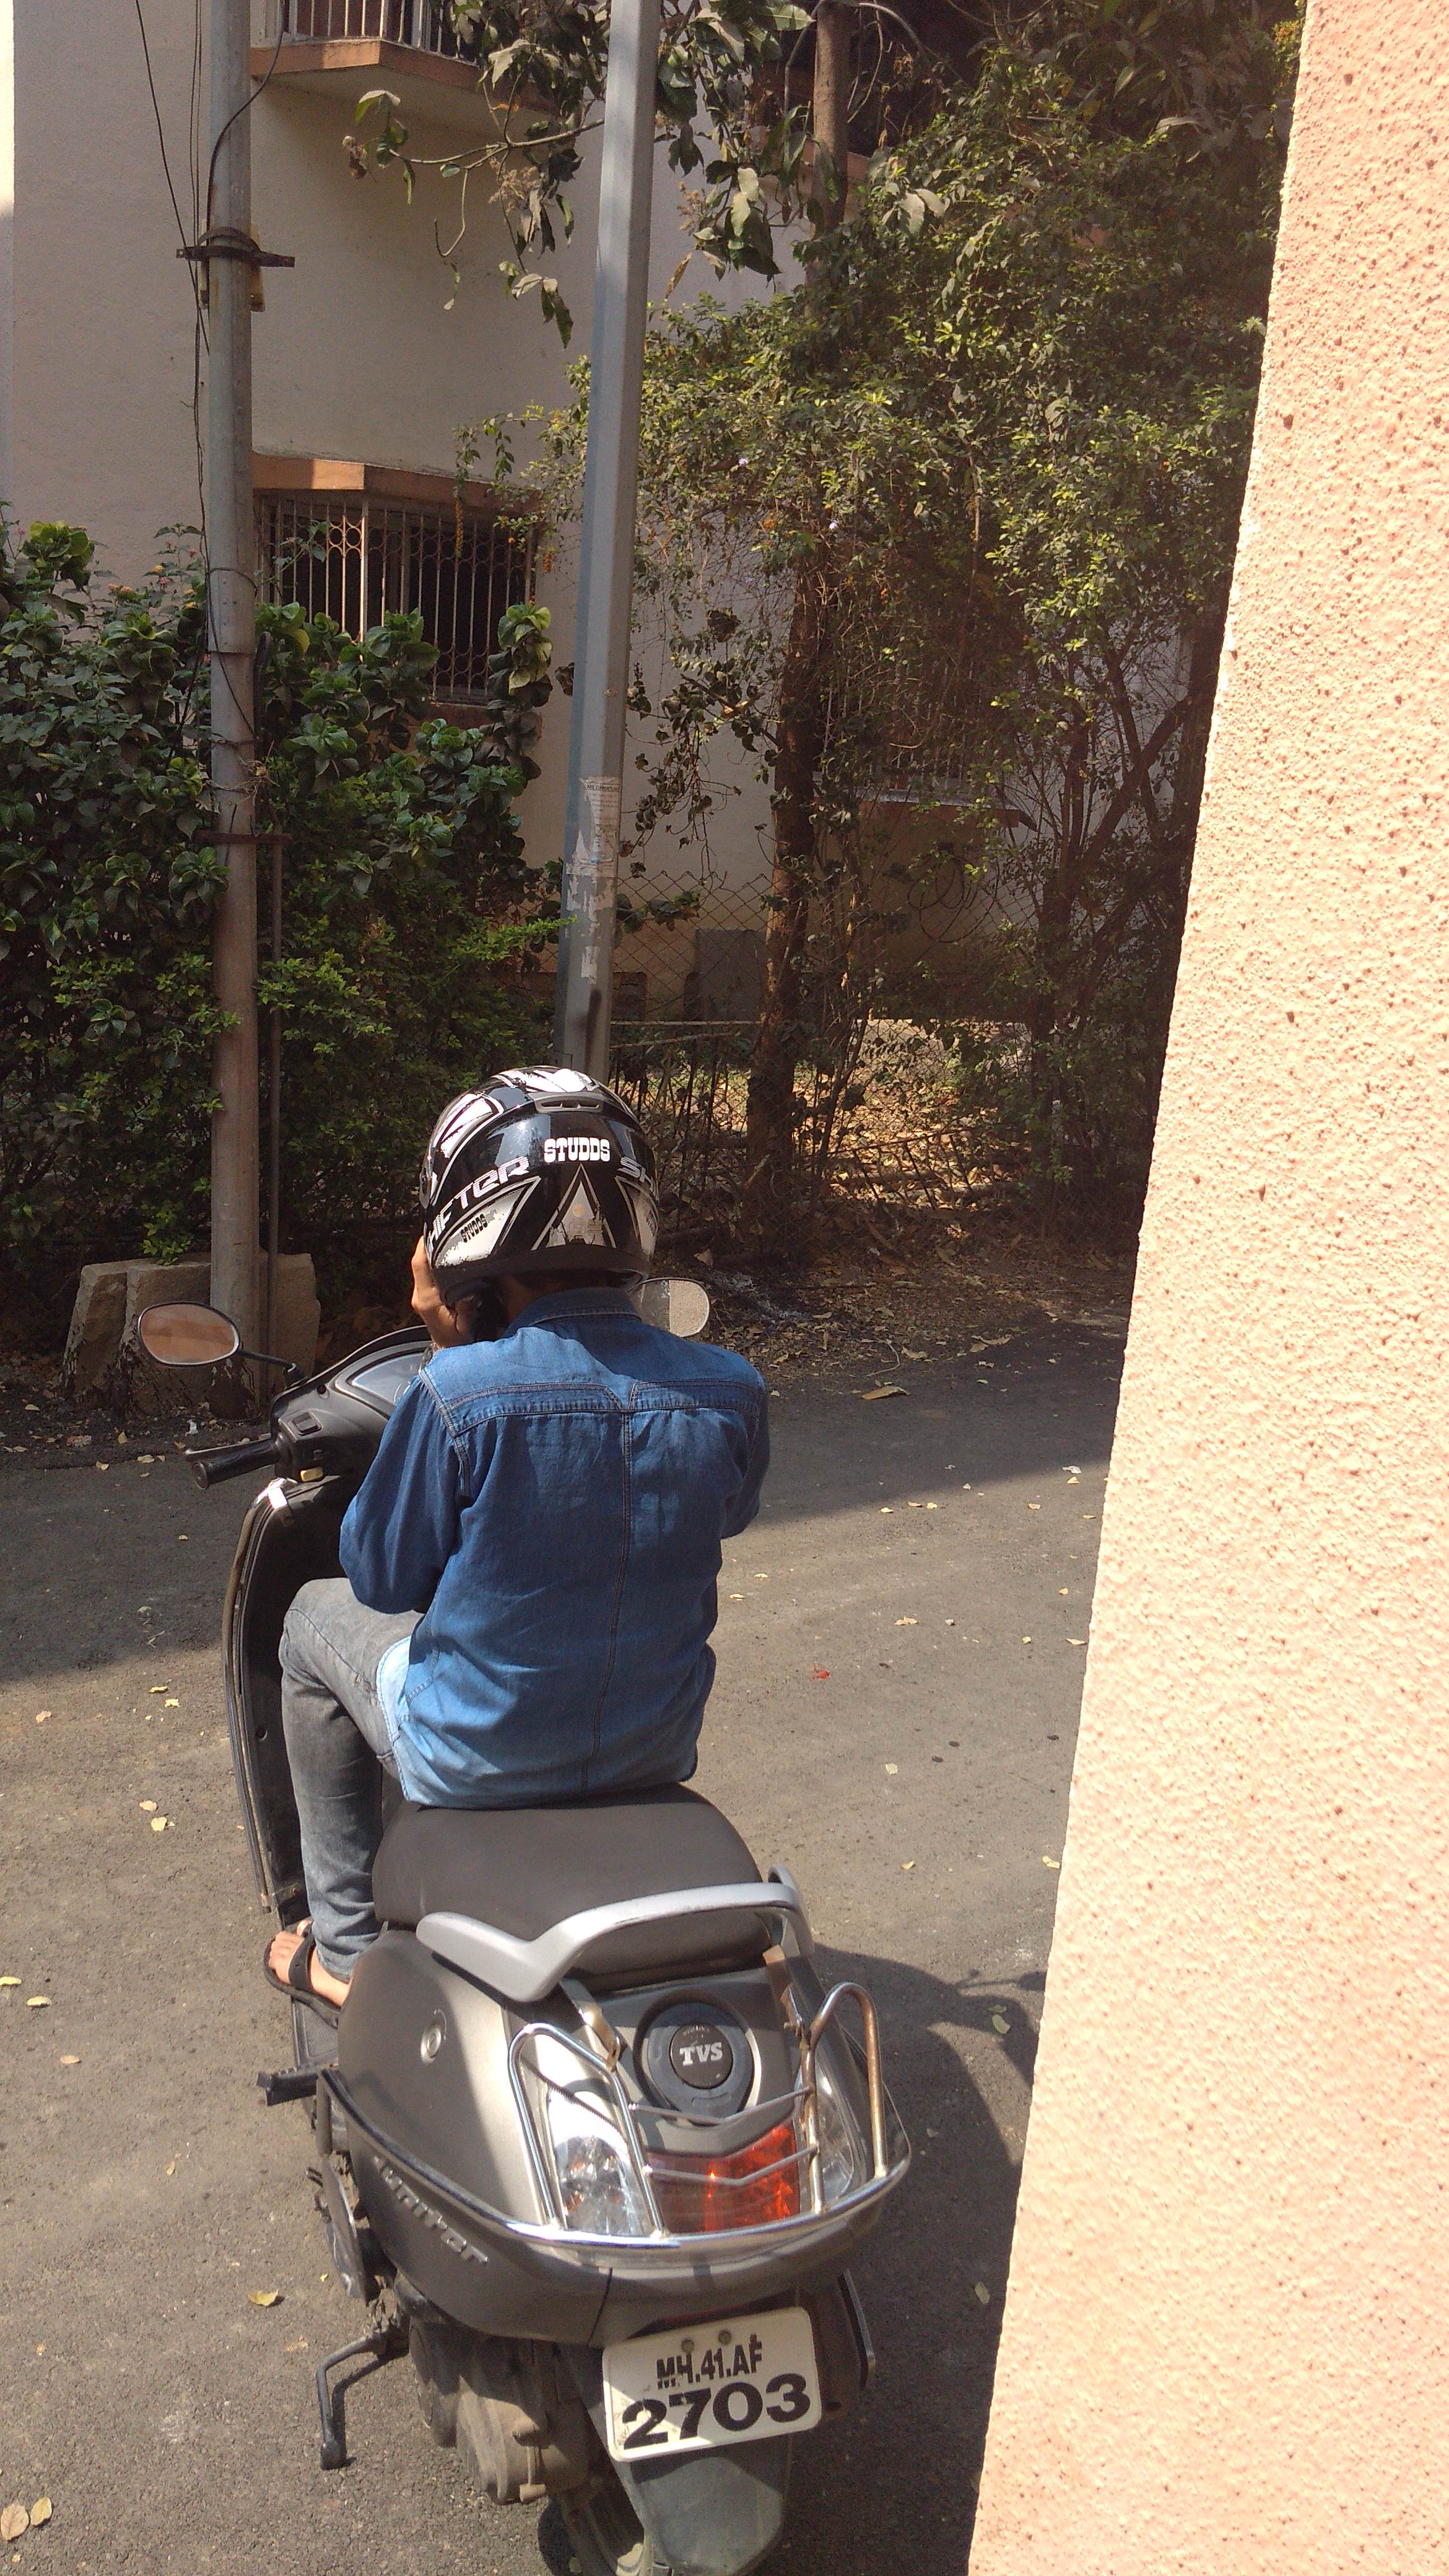helmet: (134, 1049, 941, 2576)
